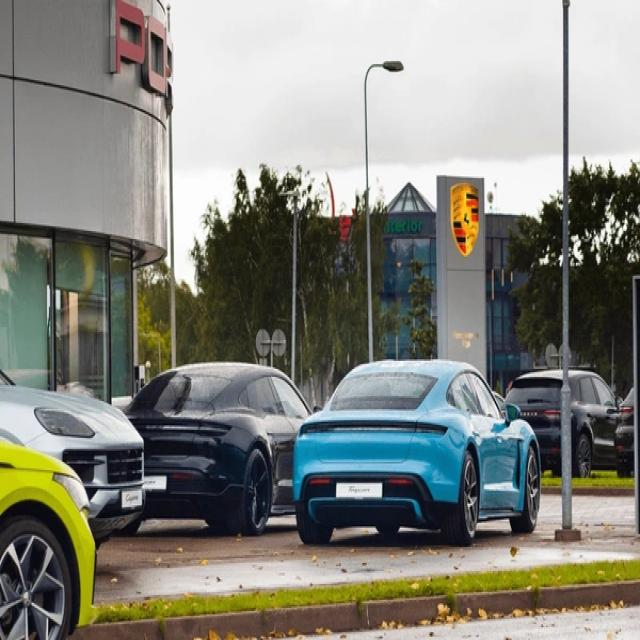porsche: (442, 180, 483, 261)
